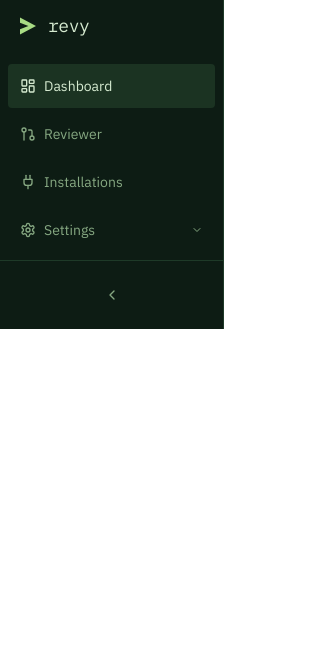
Test: AppSidebar › expands Settings accordion on click
The width and height of the screenshot is (320, 650).
Click the button "Settings".
click(112, 230)  # box [8, 208, 215, 252]
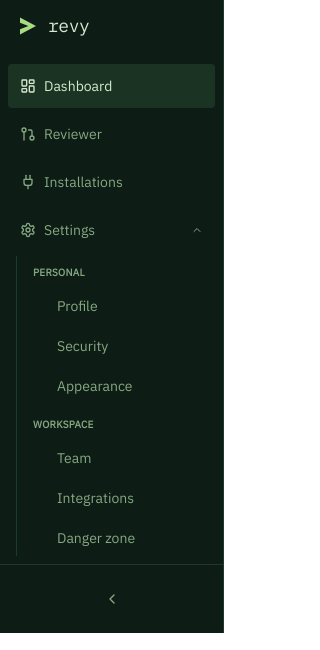
Expected: the text "Personal" is shown, [33, 266, 85, 279]
